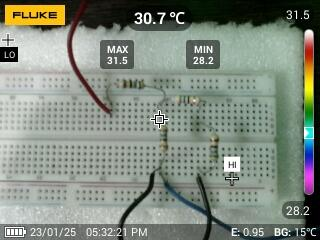resistor: (169, 91, 204, 110), (112, 75, 148, 93), (205, 133, 222, 164), (158, 122, 169, 154)
